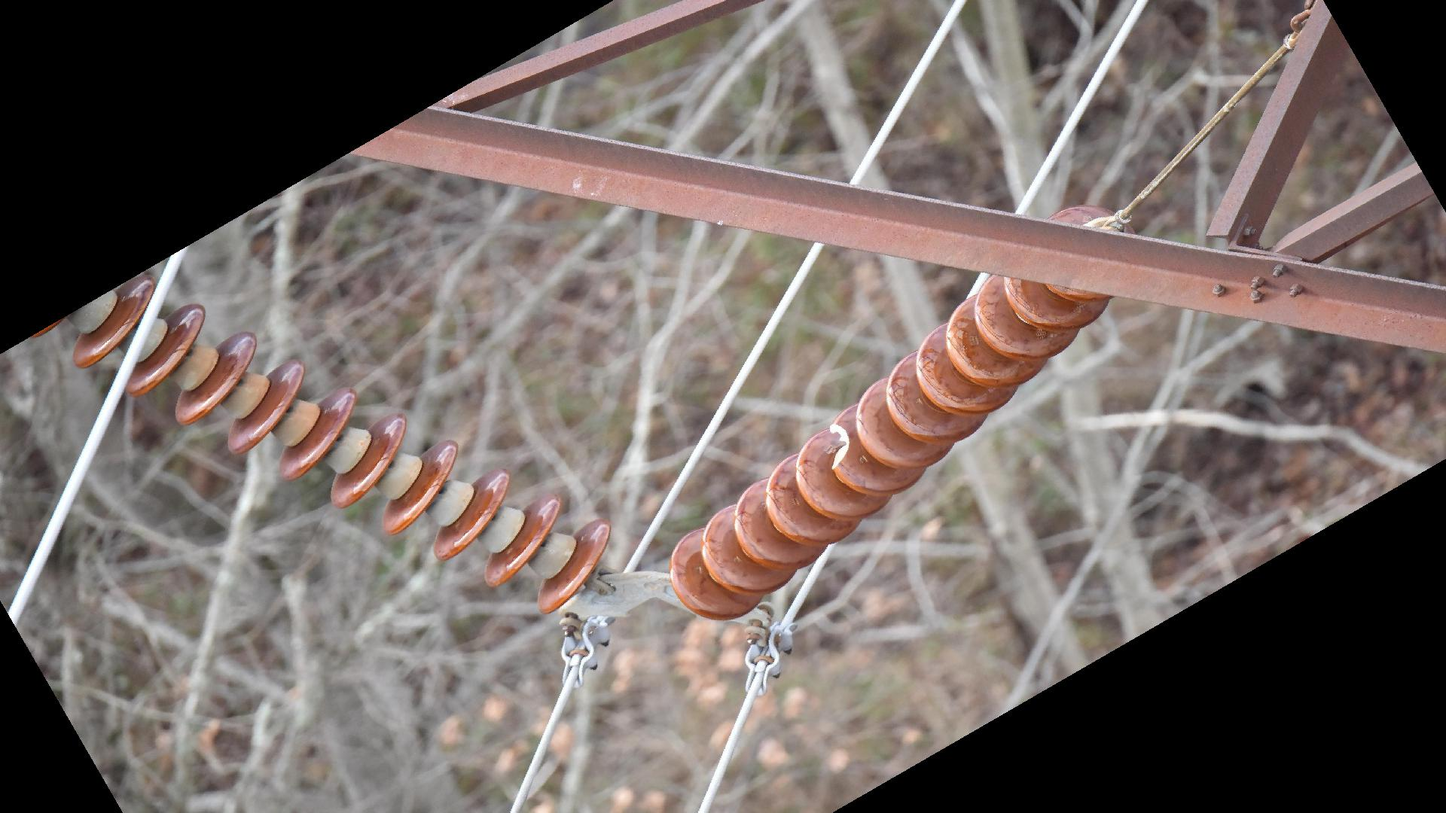insulator: (56, 270, 618, 620), (664, 270, 1115, 626)
insulator_breakage: (821, 418, 853, 473)
